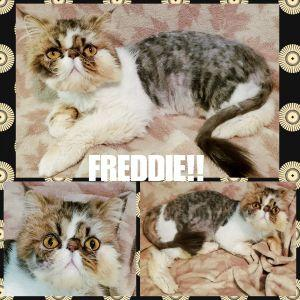persian: (17, 6, 128, 101)
